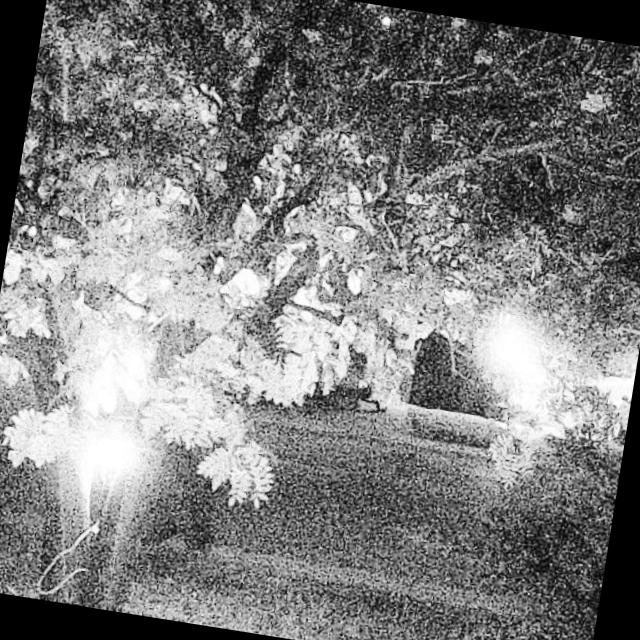Tree: (0, 0, 405, 640)
